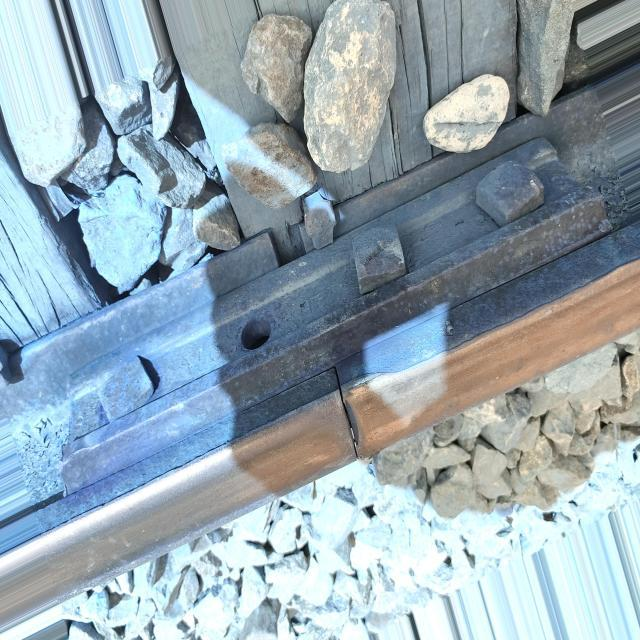Defective Joint: (0, 101, 640, 530)
Good Fasteners: (303, 189, 336, 249)
